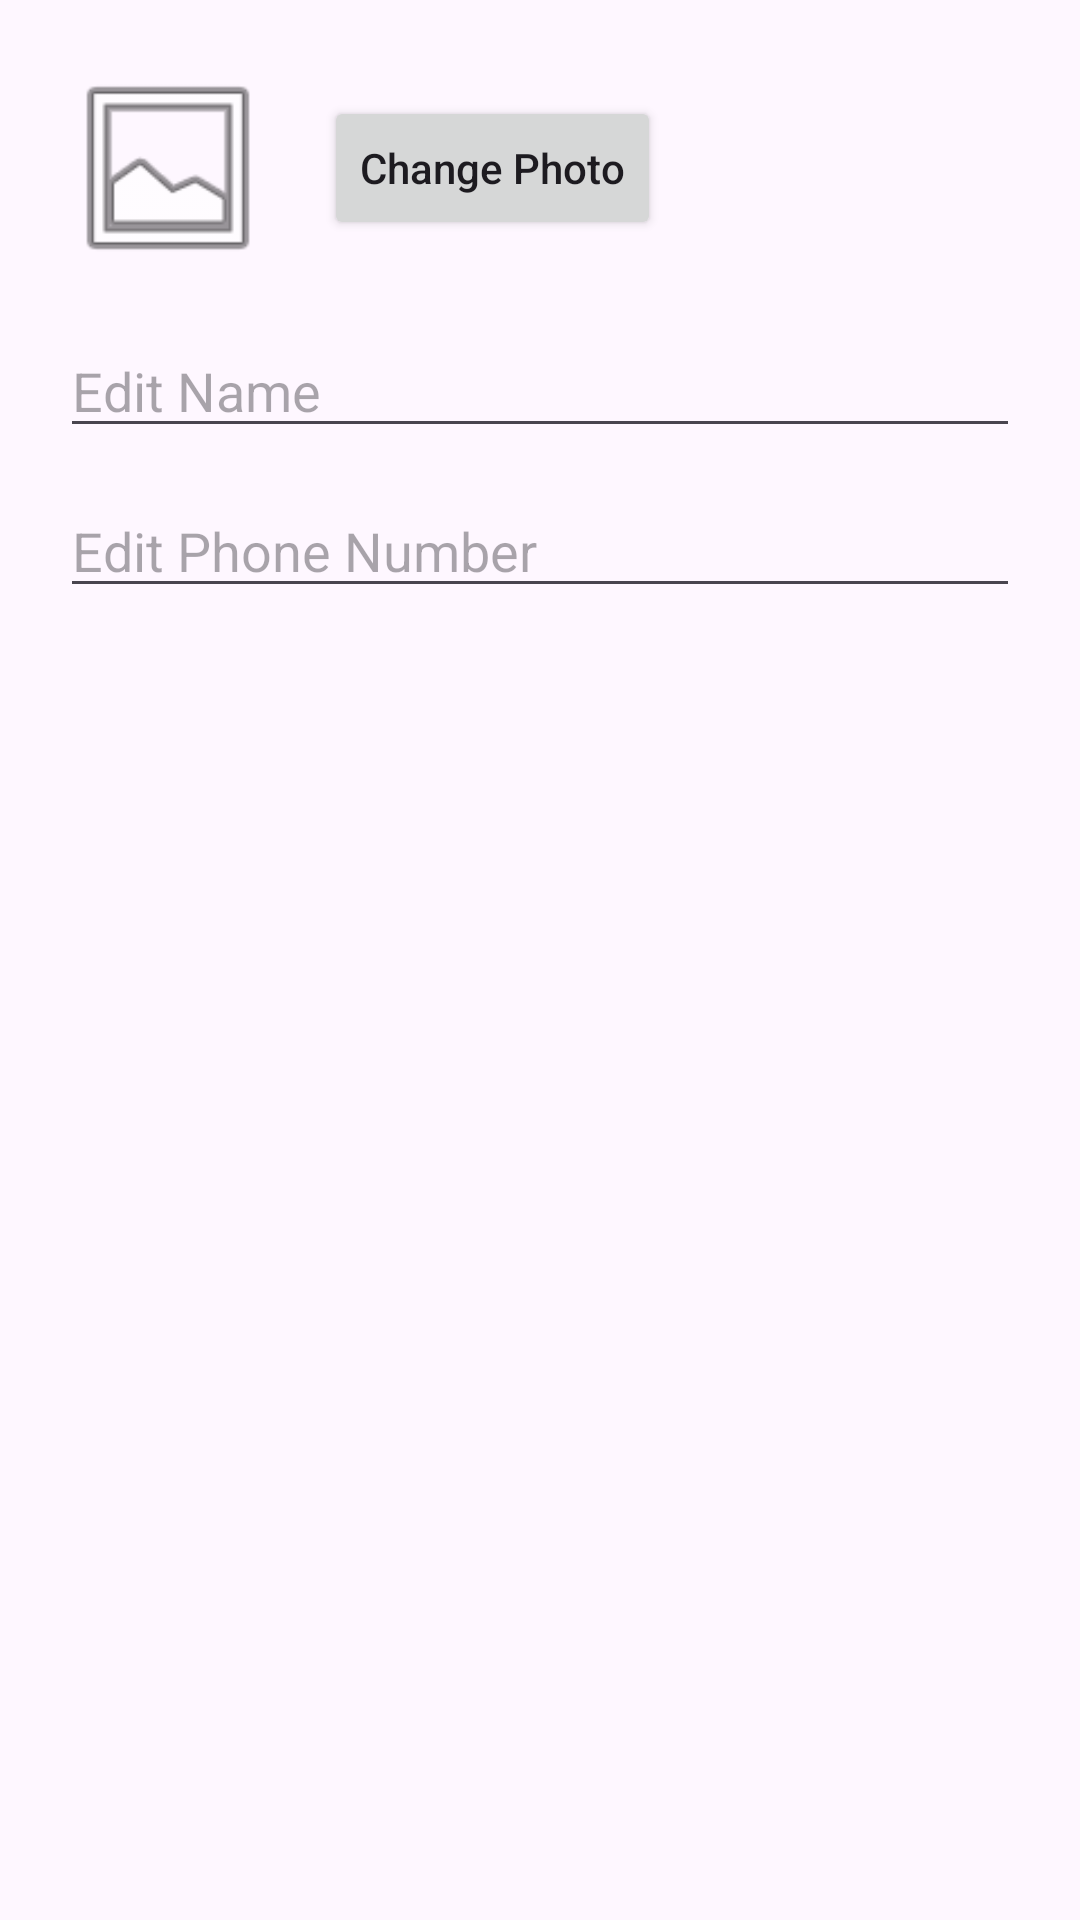

Screen size 1080px x 1920px. Icon name, then its center in pixels as point (x, y):
Profile picture preview: point (168, 168)
